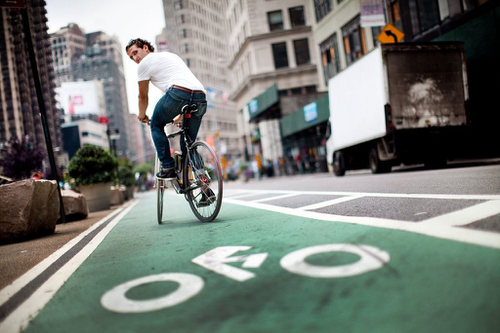bikerider: (123, 37, 236, 232)
